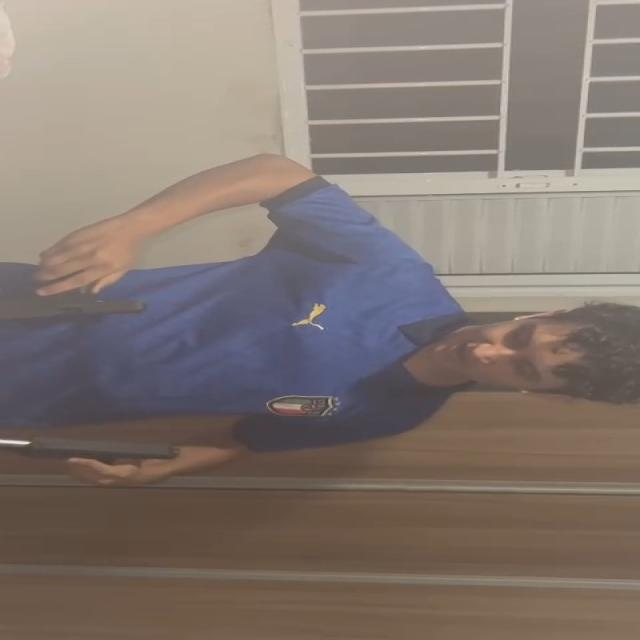gun: (0, 429, 178, 463), (0, 290, 150, 320)
